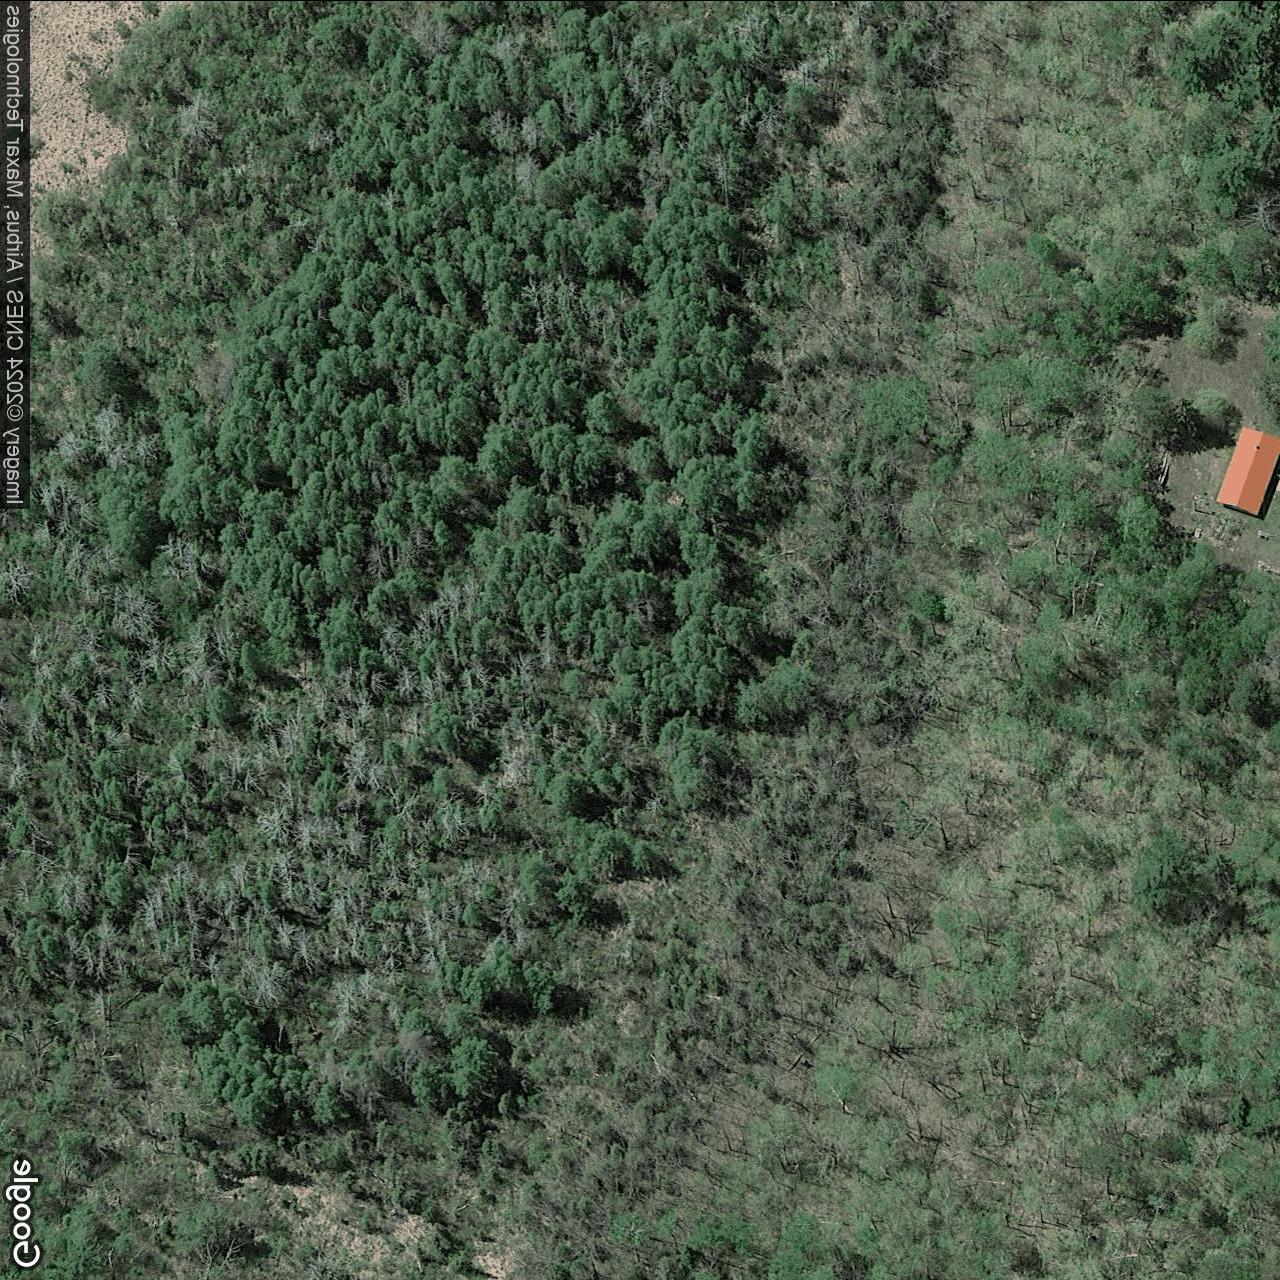House: (1214, 424, 1280, 517)
